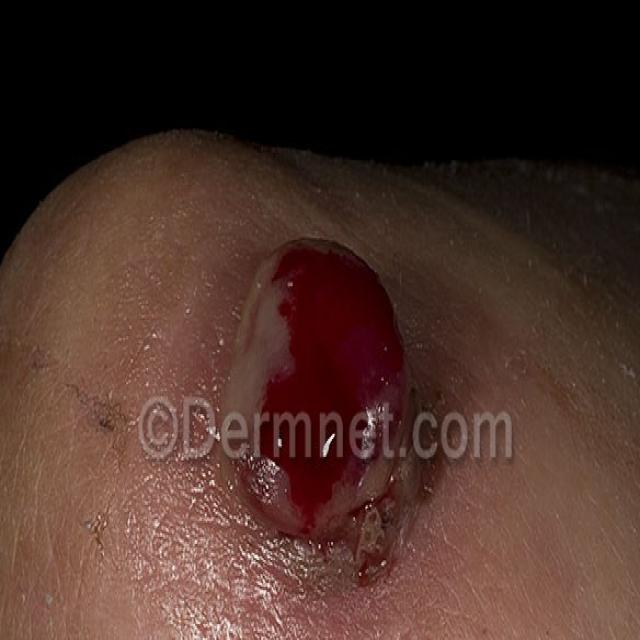Vascular Tumors: (203, 223, 449, 574)
